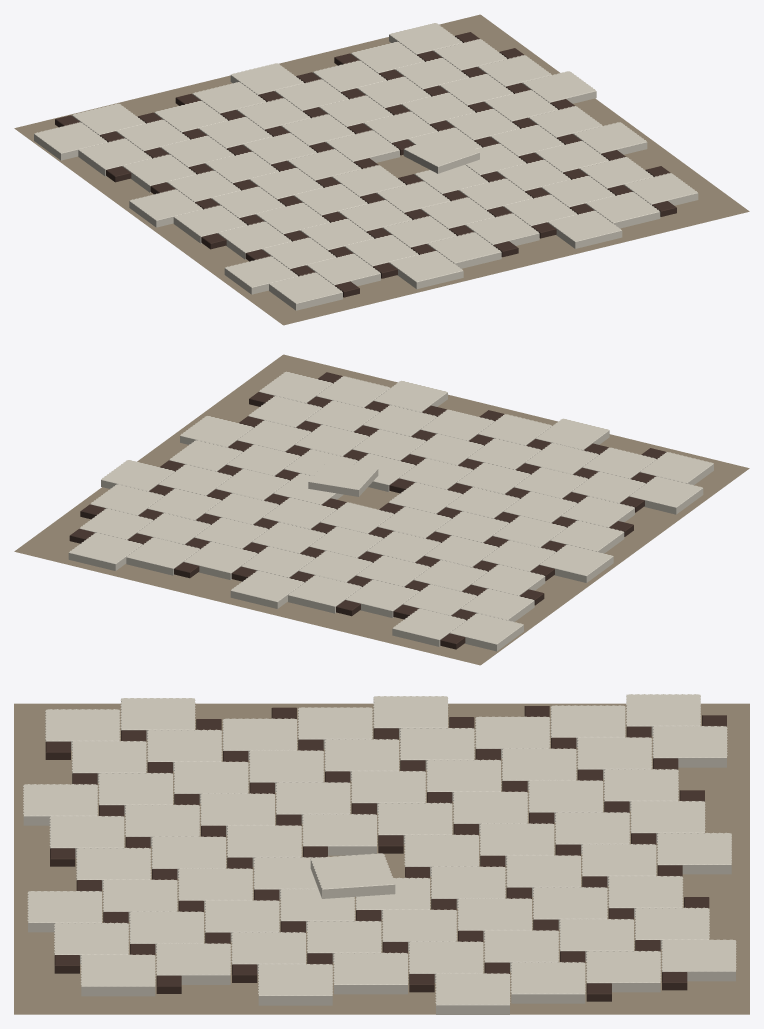
File: terilgan.glb
3 renders of one model, top to bottom at view 1: azimuth 30°, elevation 25°; view 2: azimuth 150°, elevation 25°; view 3: azimuth 270°, elevation 25°, orthographic. The views are drawn at different scales.
Parts seen in each view (by area): view 1: qum, t.078, t, t.071, t.018, t.036, t.014, t.002, t.033, t.088, t.054, t.012 (+58 smaller); view 2: qum, t.078, t.002, t.033, t.136, t.014, t.104, t.052, t.130, t.086, t.119, t.068 (+58 smaller); view 3: qum, t.078, t.106, t.123, t.133, t.122, t.132, t.104, t.107, t.136, t.134, t.052 (+58 smaller).
Boxes of the visible parts, x1,y1,x2,y2 form: qum: (14,14,749,325); t.078: (403,134,479,173); t: (269,272,342,310); t.071: (548,210,622,248); t.018: (389,251,463,289); t.036: (427,232,501,268); t.014: (129,189,202,227); t.002: (224,256,298,294); t.033: (34,122,107,160); t.088: (586,192,660,228); t.054: (465,213,539,245); t.012: (173,205,247,243); qum: (14,354,749,665); t.078: (308,460,378,496); t.002: (629,476,703,514); t.033: (450,613,523,651); t.136: (68,533,142,570); t.014: (540,545,613,582); t.104: (230,570,304,608); t.052: (392,608,466,646); t.130: (126,537,199,575); t.086: (288,575,361,613); t.119: (184,542,257,580); t.068: (346,580,419,617); qum: (14,703,749,1014); t.078: (310,853,395,898); t.106: (80,954,155,996); t.123: (333,952,408,994); t.133: (510,962,585,1003); t.122: (258,964,332,1005); t.132: (435,973,510,1014); t.104: (657,832,731,874); t.107: (156,943,230,984); t.136: (661,939,736,981); t.134: (586,950,660,992); t.052: (652,726,727,767).
Size of the model in its own units: 1.66 by 0.052 by 1.66.
